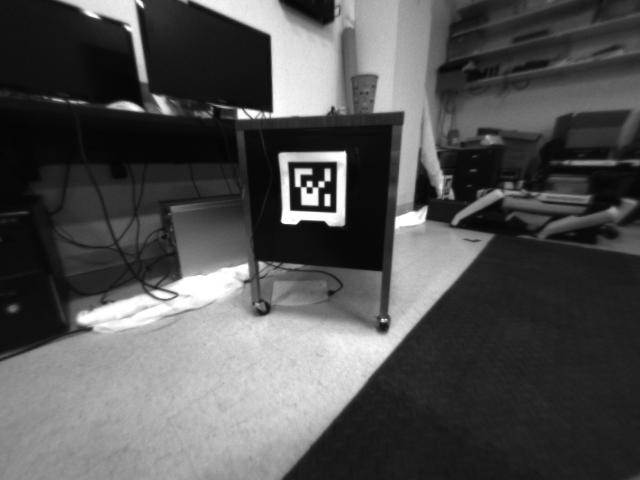coffee_cup: (350, 72, 379, 114)
